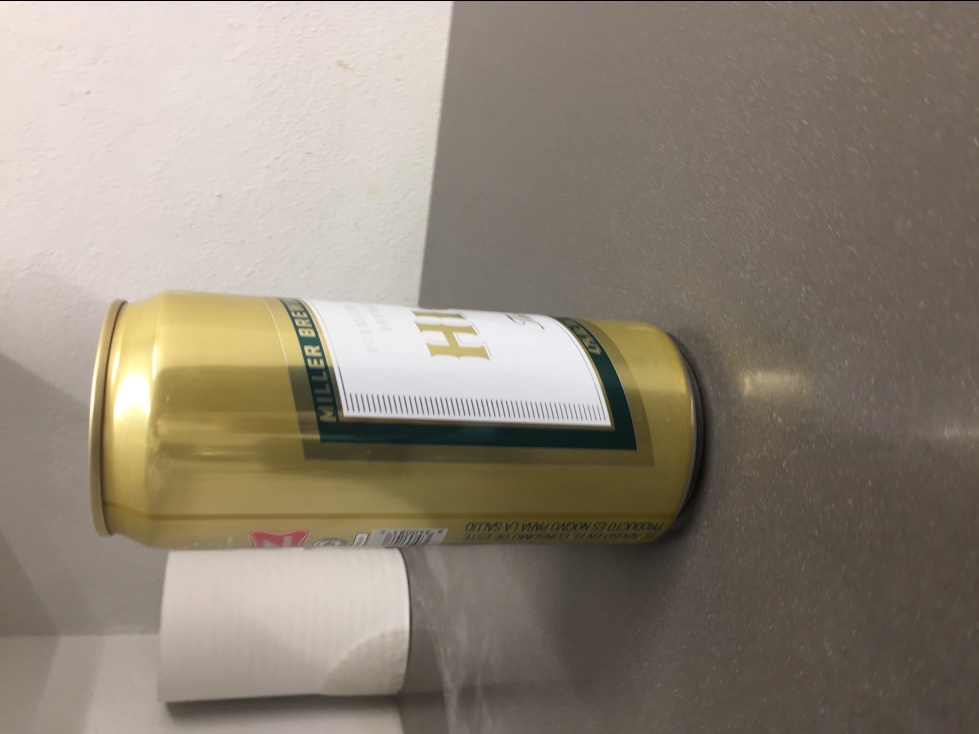miller: (86, 288, 704, 548)
